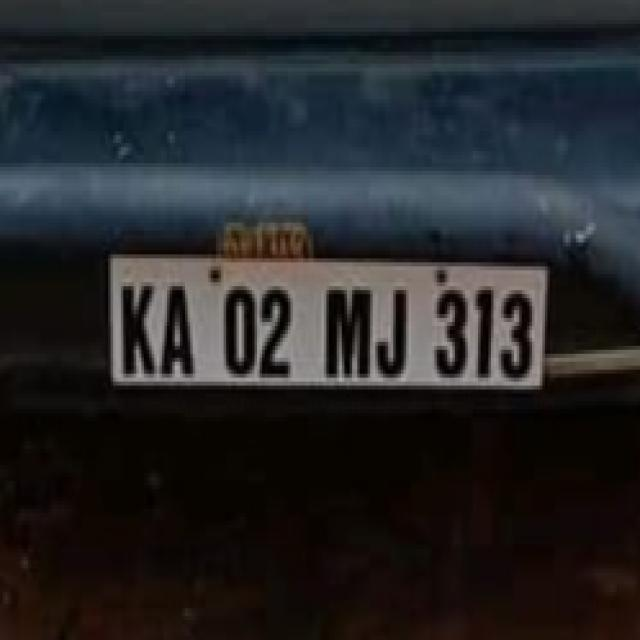0: (220, 273, 257, 379)
1: (473, 272, 499, 384)
3: (500, 280, 538, 382), (434, 277, 469, 382)
A: (161, 277, 200, 384)
J: (374, 276, 410, 379)
K: (116, 274, 158, 384)
M: (321, 274, 375, 380)
